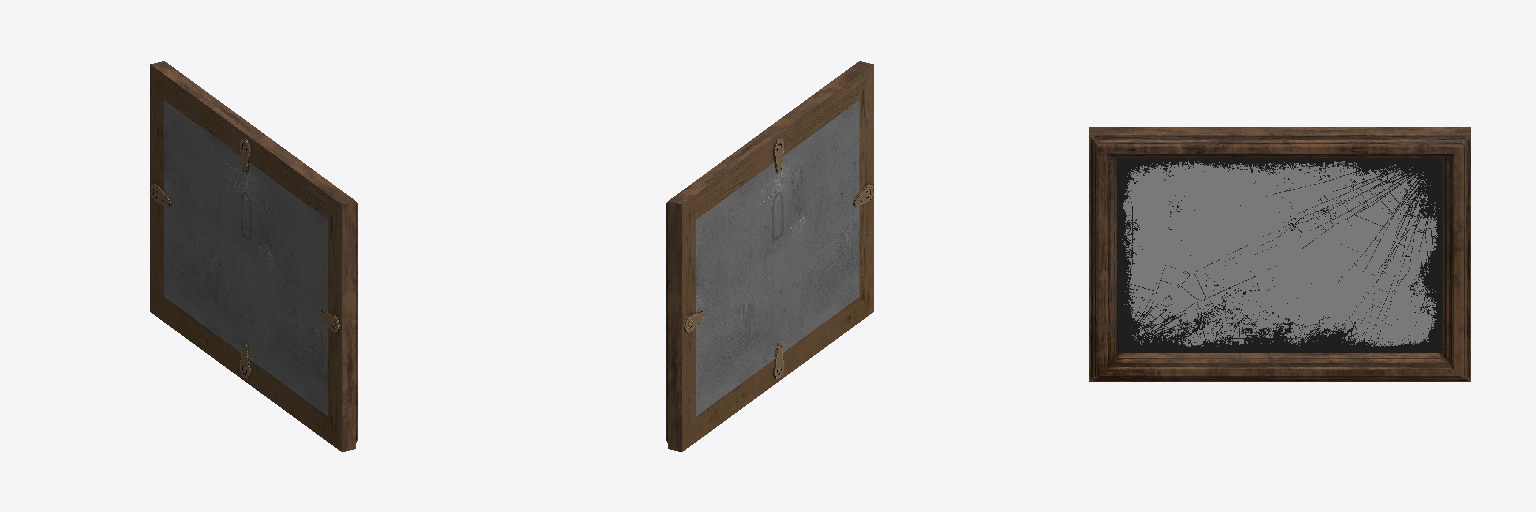
3 views of the same model, side by side, from view 1: azimuth 30°, elevation 25°; view 2: azimuth 150°, elevation 25°; view 3: azimuth 270°, elevation 25° (orthographic).
Parts seen in each view (by area): view 1: Object_2; view 2: Object_2; view 3: Object_2.
Part boxes in pixels (x1,y1,x2,y2): Object_2: (150, 61, 357, 451); Object_2: (666, 61, 873, 451); Object_2: (1089, 127, 1470, 381).
Bounding box in the file's own units: 0.0788 × 0.8032 × 1.12.
1 materials, 1 textured.